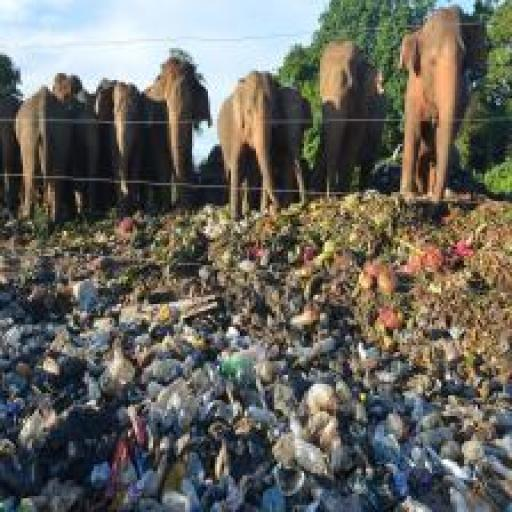Elephant: (0, 55, 213, 219), (398, 7, 488, 203), (215, 64, 316, 213), (308, 34, 391, 199)
